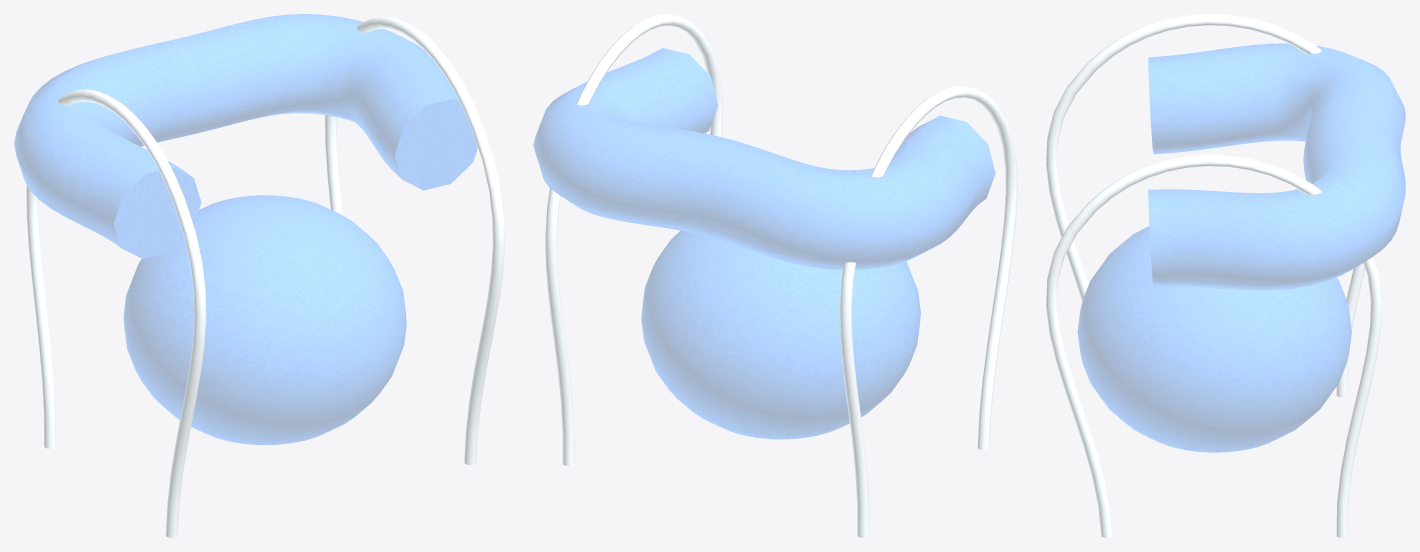
The model's file is ref04_02.glb.
3 renders of one model, left to right at view 1: azimuth 30°, elevation 25°; view 2: azimuth 150°, elevation 25°; view 3: azimuth 270°, elevation 25°, orthographic. The views are drawn at different scales.
Visible parts, largest first — view 1: ref04_02; view 2: ref04_02; view 3: ref04_02.
Boxes of the visible parts, x1,y1,x2,y2 form: ref04_02: (14,14,504,537); ref04_02: (533,14,1017,537); ref04_02: (1046,14,1405,537).
Size of the model in its own units: 0.9211 by 0.8562 by 0.7345.
2 materials, 1 textured.
